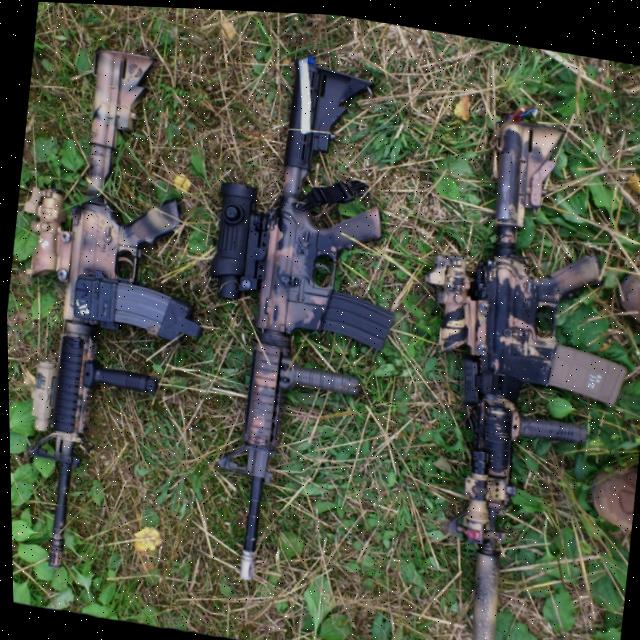firearm: (166, 44, 428, 600), (373, 98, 640, 640), (1, 34, 238, 590)
